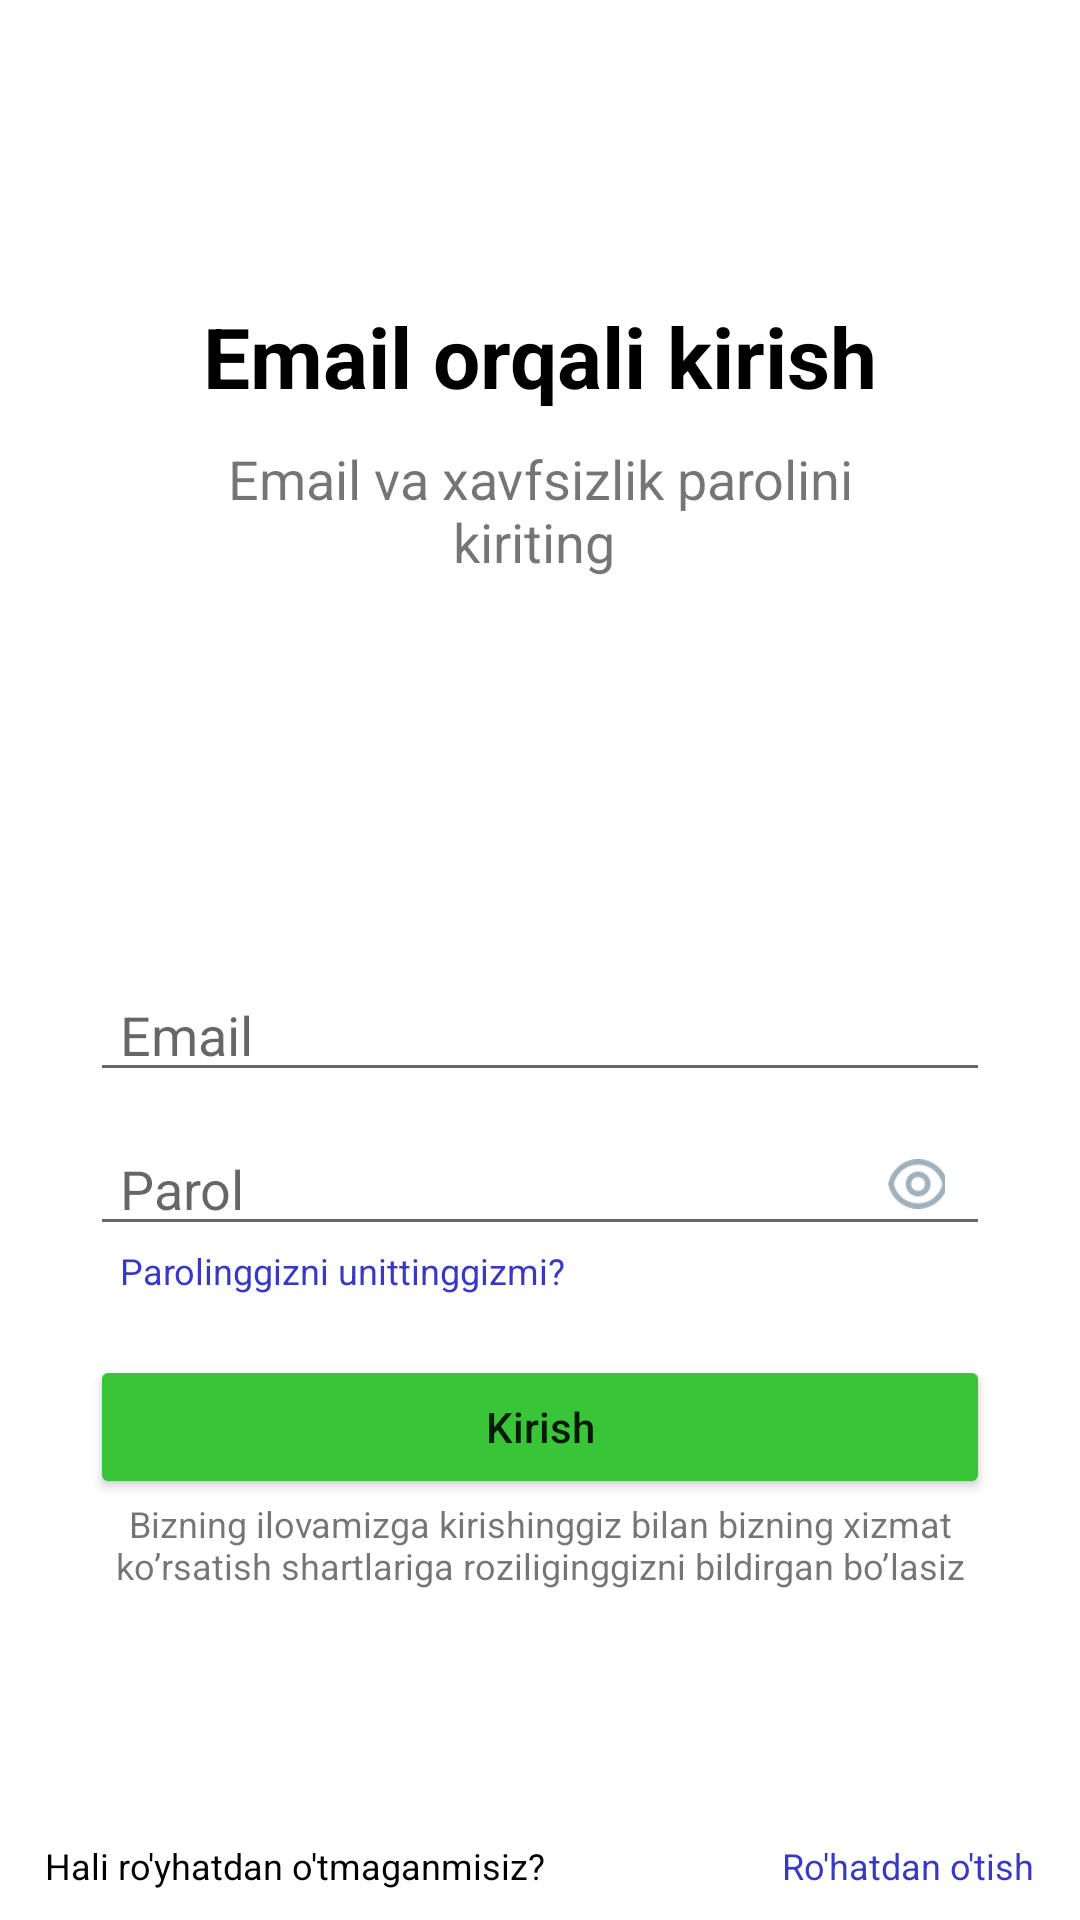

Named icons in this screenshot (1080×1920) and their bounding boxes, (x1, y1, x2, y2):
see password: (888, 1159, 945, 1209)
